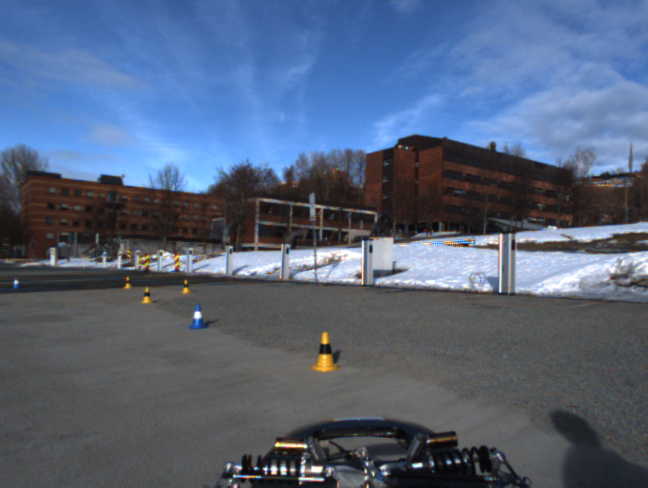cone-small-blue: (189, 303, 209, 330), (12, 277, 21, 289)
cone-small-yellow: (309, 331, 341, 374), (140, 286, 154, 304), (122, 276, 133, 289), (182, 280, 192, 294)
